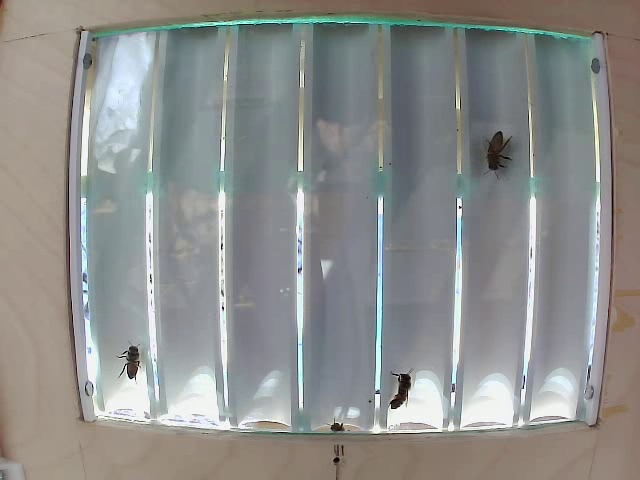bee: (118, 334, 164, 386), (478, 123, 516, 183), (373, 361, 412, 410)
